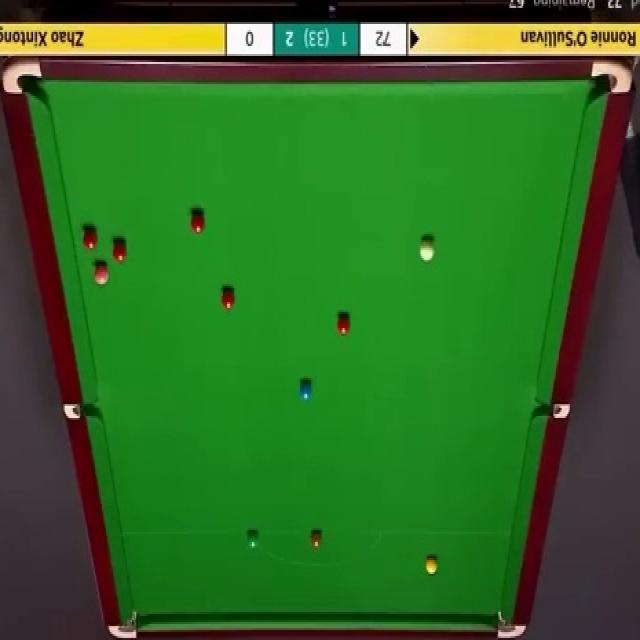blue-ball: (299, 379, 312, 401)
brown-ball: (310, 530, 322, 547)
green-ball: (247, 530, 258, 550)
pink-ball: (92, 262, 109, 287)
red-ball: (189, 210, 207, 235), (220, 288, 235, 313), (82, 229, 99, 249), (112, 241, 127, 262), (337, 313, 350, 336)
white-ball: (419, 236, 437, 264)
yellow-ball: (424, 554, 438, 574)
